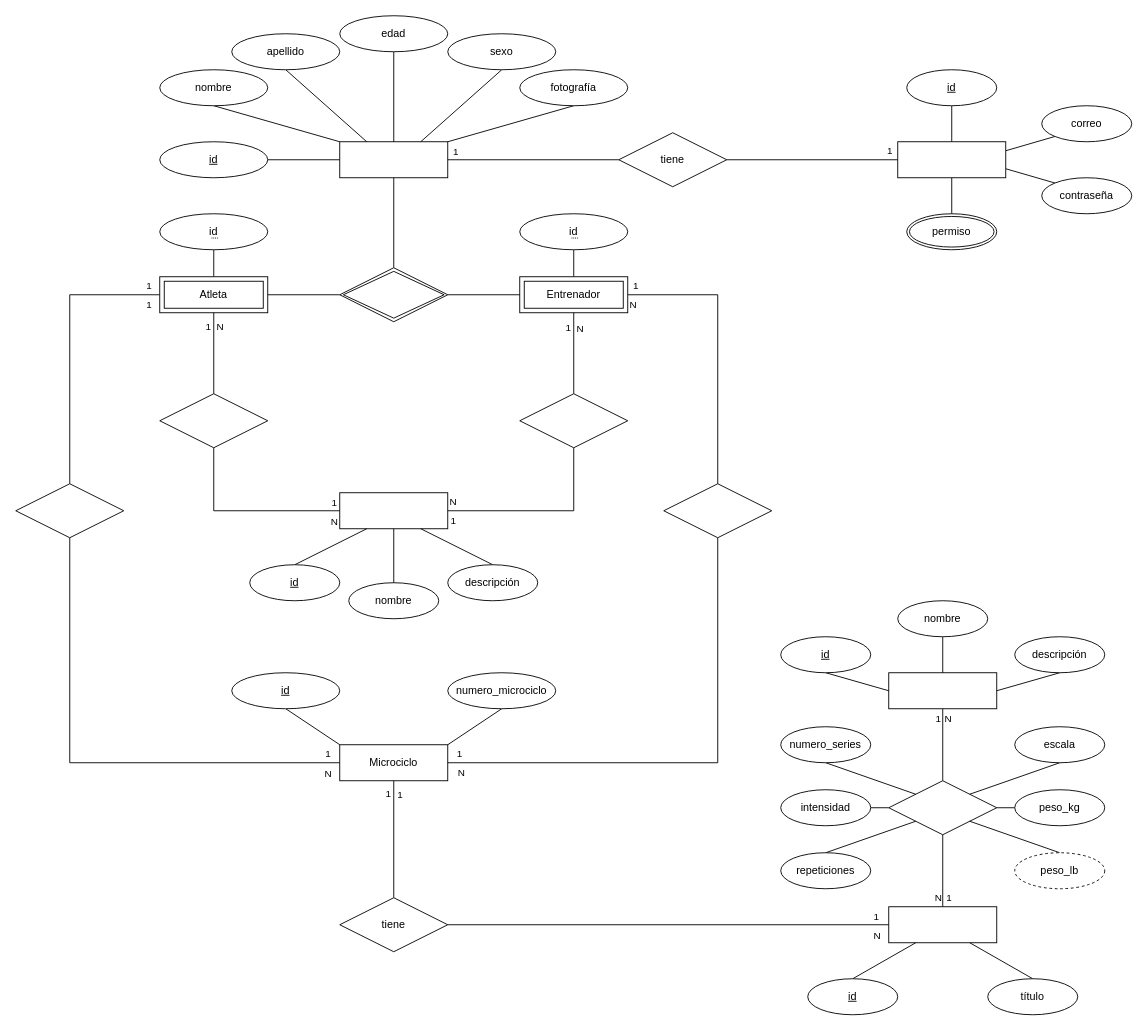
Some shapes in this 1148 by 1031 pixel diagram are drawn without their labels. The centre of each missing label's shape, as x and y in pixels:
Cuenta: the point at 951,159
Dia_Entrenamiento: the point at 942,924
Disciplina: the point at 393,510
Ejercicio: the point at 942,690
enseña: the point at 573,420
es: the point at 393,294
está: the point at 942,807
Persona: the point at 393,159
planifica: the point at 717,510
practica: the point at 213,420
sigue: the point at 69,510
